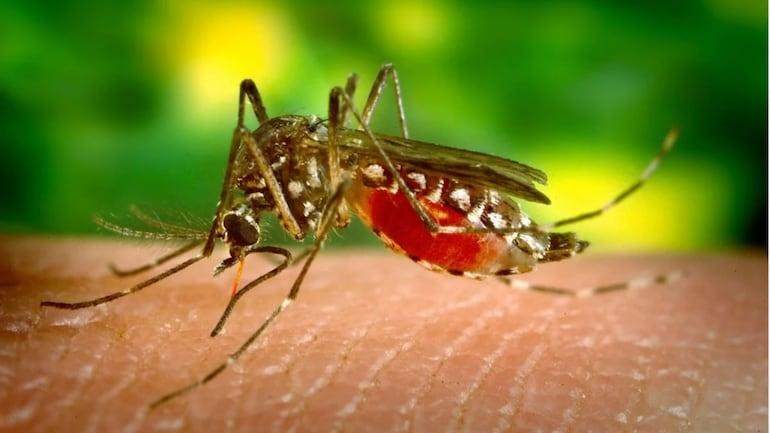insect: (30, 58, 691, 416)
